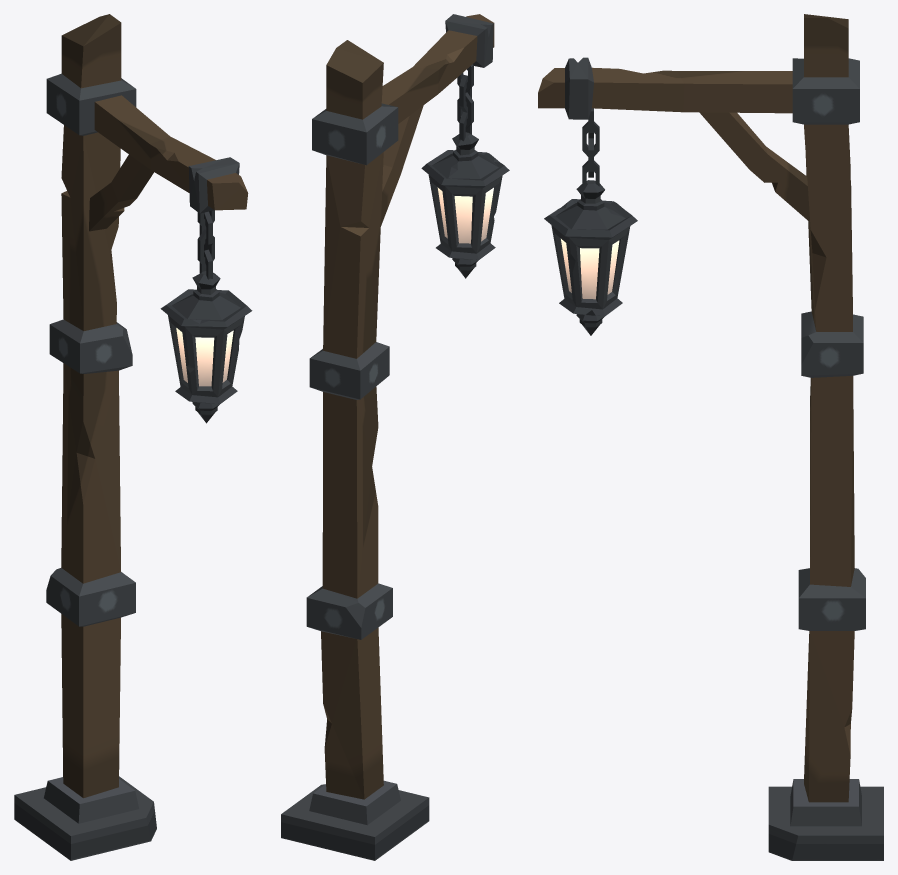
File: crypt_lamp_post.gltf
3 renders of one model, left to right at view 1: azimuth 30°, elevation 25°; view 2: azimuth 150°, elevation 25°; view 3: azimuth 270°, elevation 25°, orthographic. The views are drawn at different scales.
Parts seen in each view (by area): view 1: crypt_lamp_post; view 2: crypt_lamp_post; view 3: crypt_lamp_post.
Boxes of the visible parts, x1,y1,x2,y2 form: crypt_lamp_post: (14,14,252,860); crypt_lamp_post: (281,14,509,860); crypt_lamp_post: (538,14,883,860).
Bounding box in the file's own units: 0.5446 × 4.31 × 1.63.
Materials: 1 (1 with a texture image).
